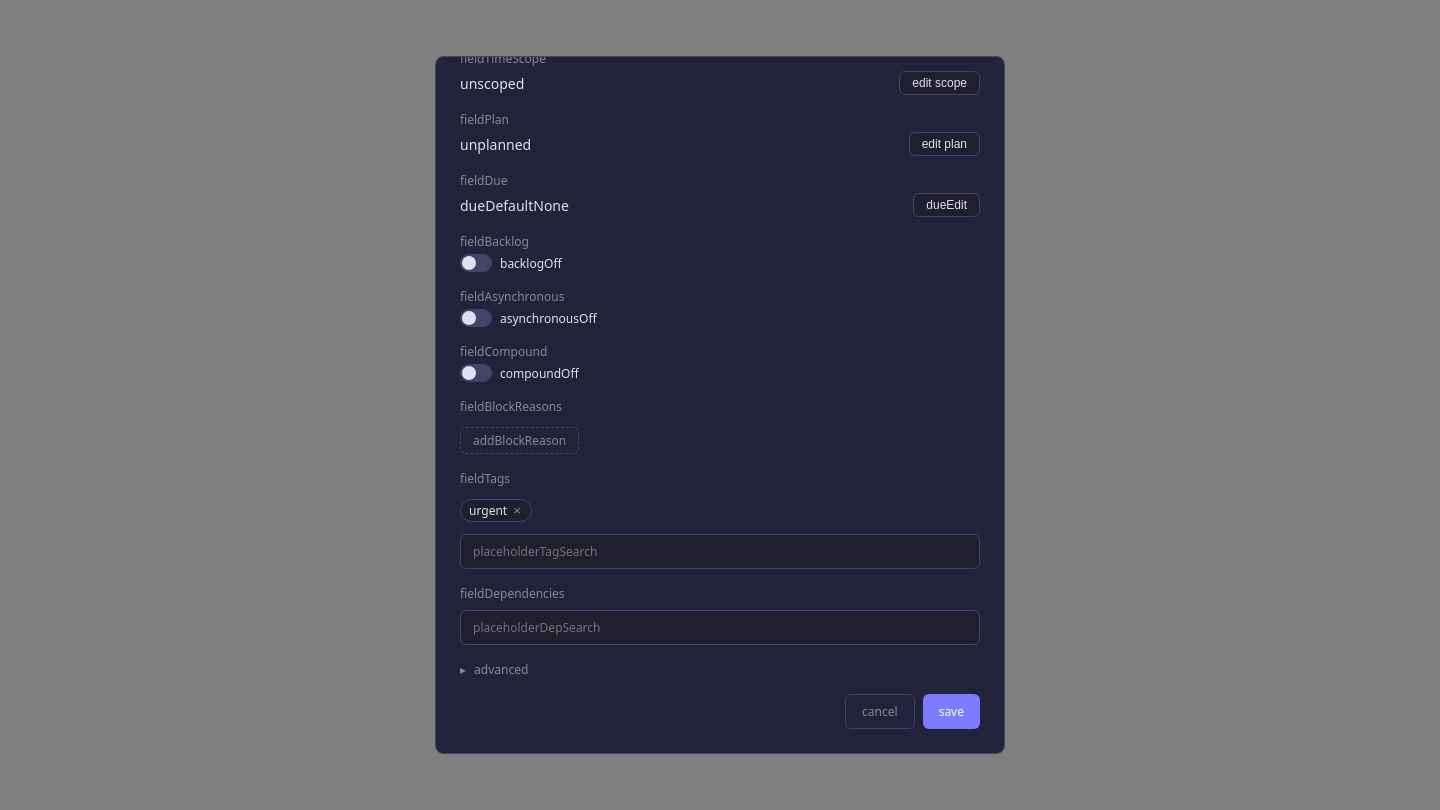
Scenario: TaskEditorModal — the agentic brief › is offered on a task that inherits agentic too
(page scrolled)
Click the button "▸ advanced".
click(494, 670)  # box [460,661,528,678]
(page scrolled)
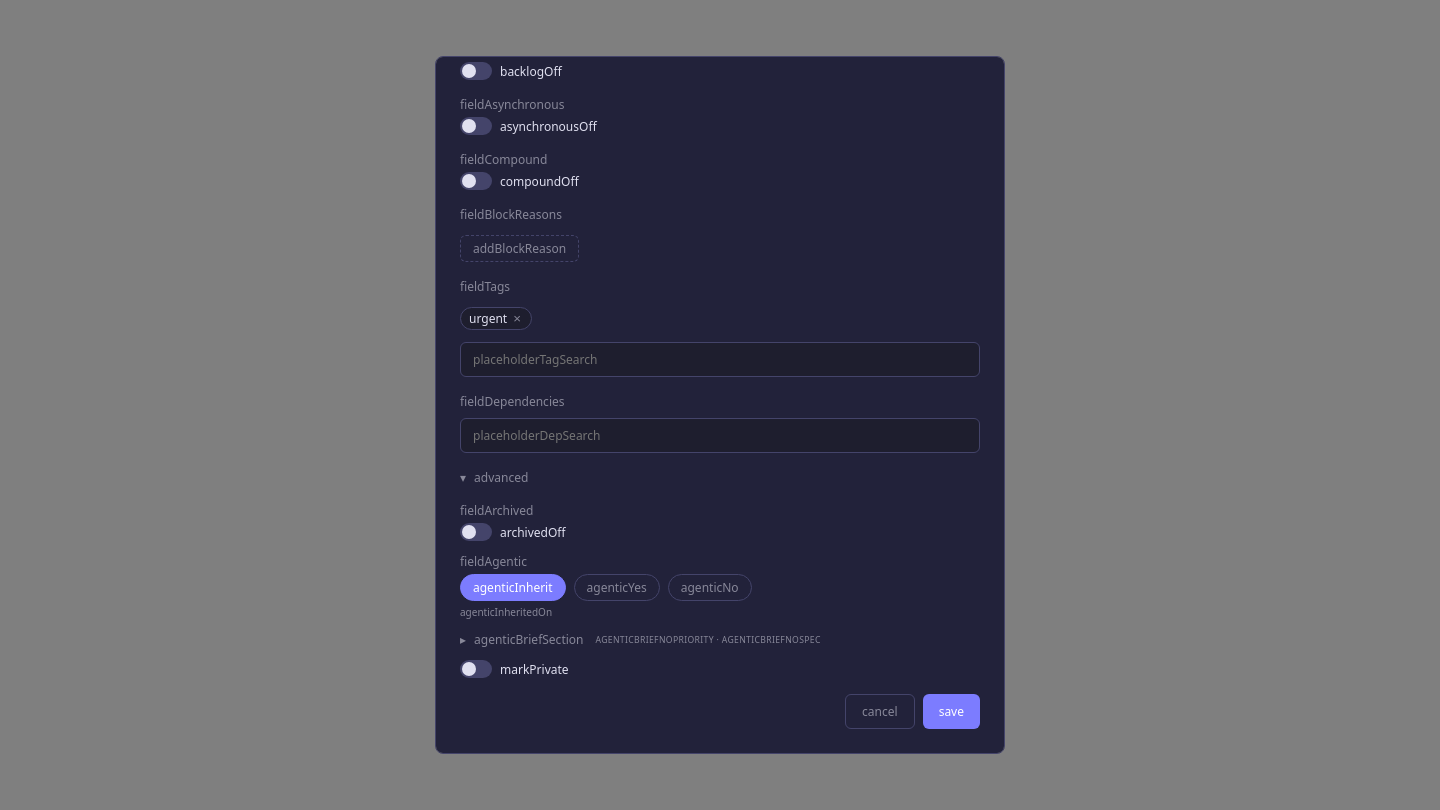
Now the element "agenticBriefSection" is shown, box [460,631,821,648]
